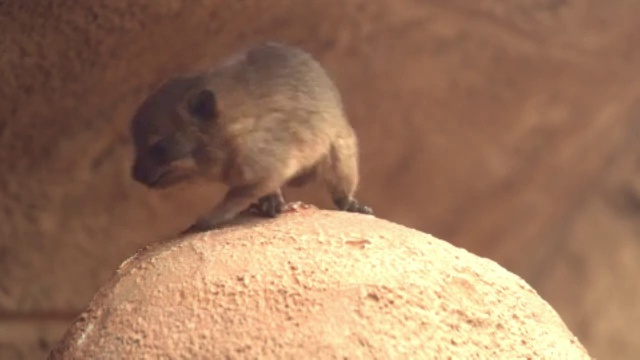Rock Hyrex: (125, 40, 379, 240)
